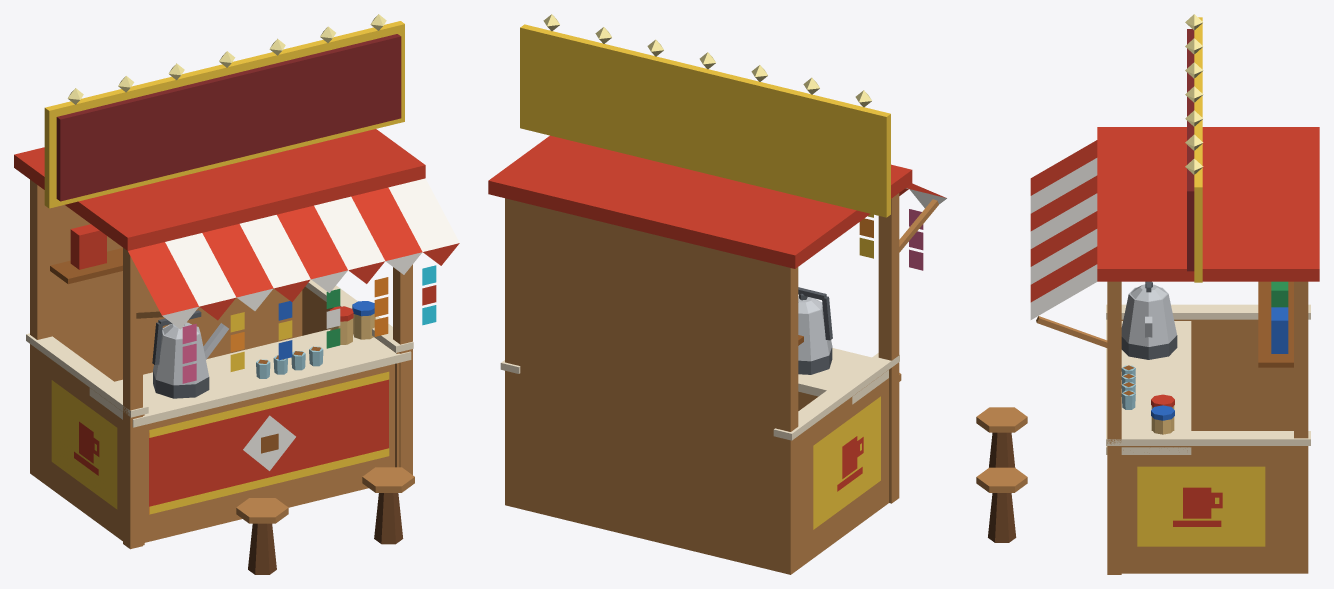
Rendered from chai_tapri.glb.
3 renders of one model, left to right at view 1: azimuth 30°, elevation 25°; view 2: azimuth 150°, elevation 25°; view 3: azimuth 270°, elevation 25°, orthographic. The views are drawn at different scales.
Visible parts, largest first — view 1: chai_tapri; view 2: chai_tapri; view 3: chai_tapri.
Part boxes in pixels (box(x1,y1,x2,y2)): chai_tapri: box(14, 14, 459, 574); chai_tapri: box(488, 14, 946, 574); chai_tapri: box(976, 14, 1319, 574).
Size of the model in its own units: 2.82 by 3.27 by 2.41.
Materials: 1 (1 with a texture image).
